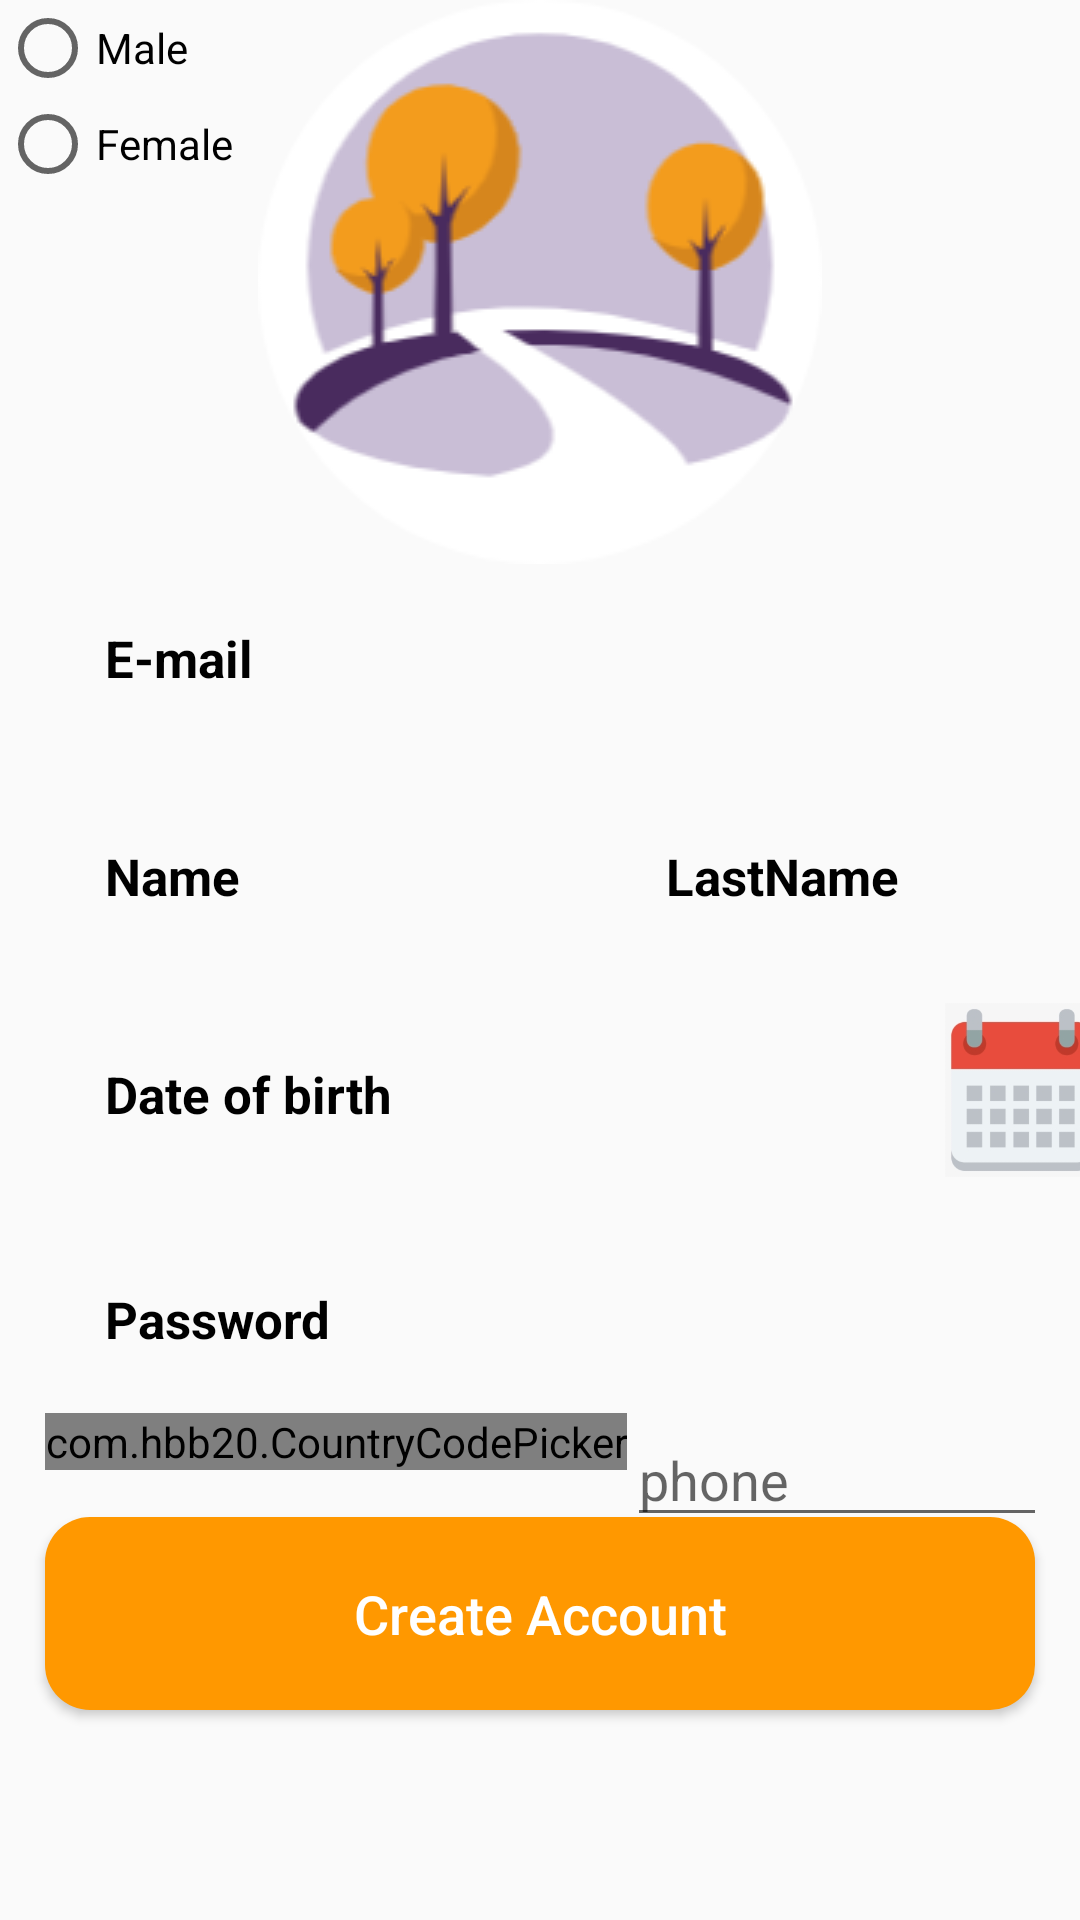

Named icons in this screenshot (1080x1920) and their centers, [x,y]:
calendar: [1015,1090]
